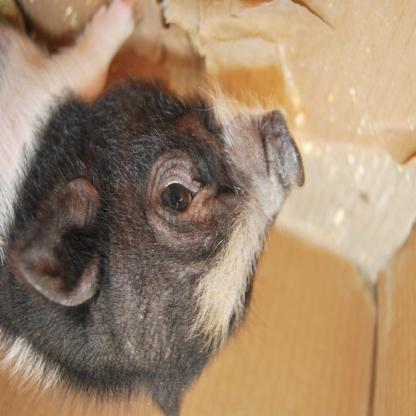boar: (0, 0, 305, 416)
